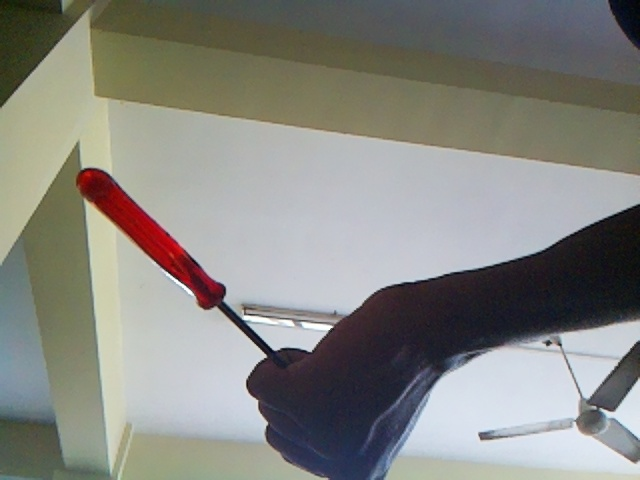redskrew: (70, 170, 279, 363)
